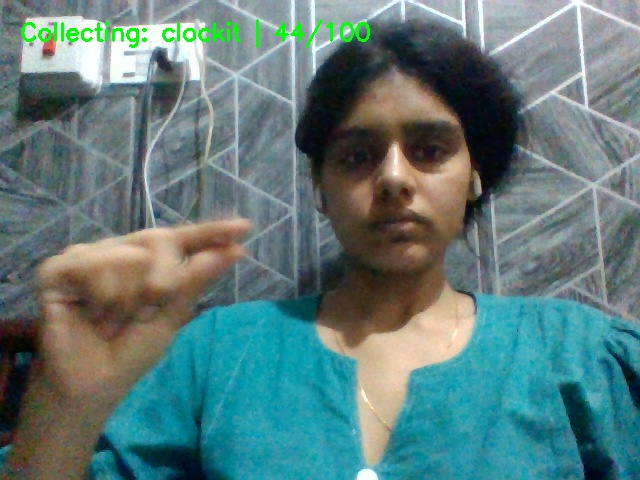clockit: (18, 210, 267, 382)
